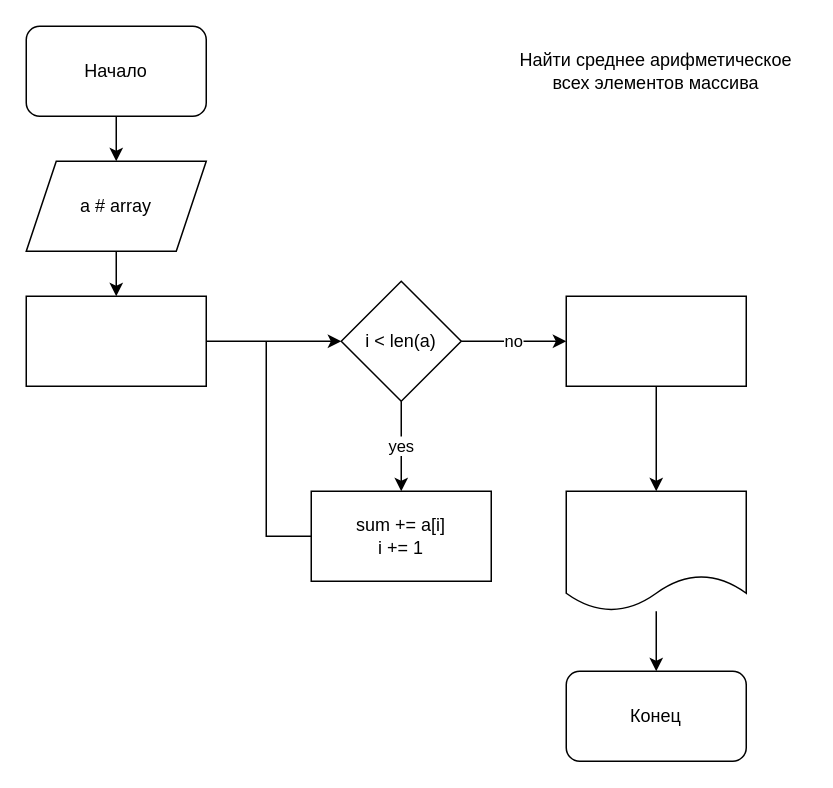
Image size: 833x788. Some labels were removed from this diagram. The centre of each missing label's shape, as x and y in pixels:
"mean" belongs at point 655,550.
"mean = sum / len(a)" belongs at point 655,340.
"sum = 0 i = 0" belongs at point 115,340.
